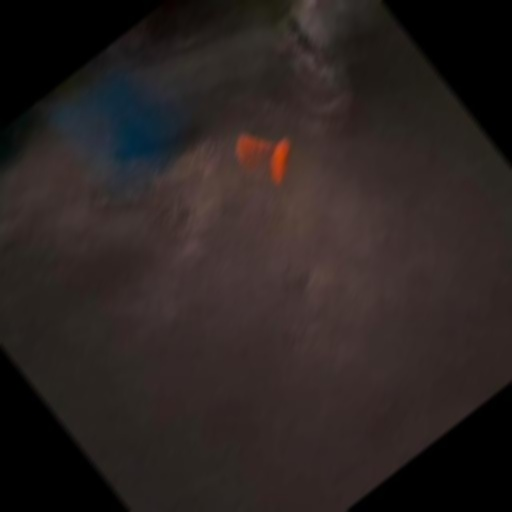mallet: (229, 110, 303, 190)
